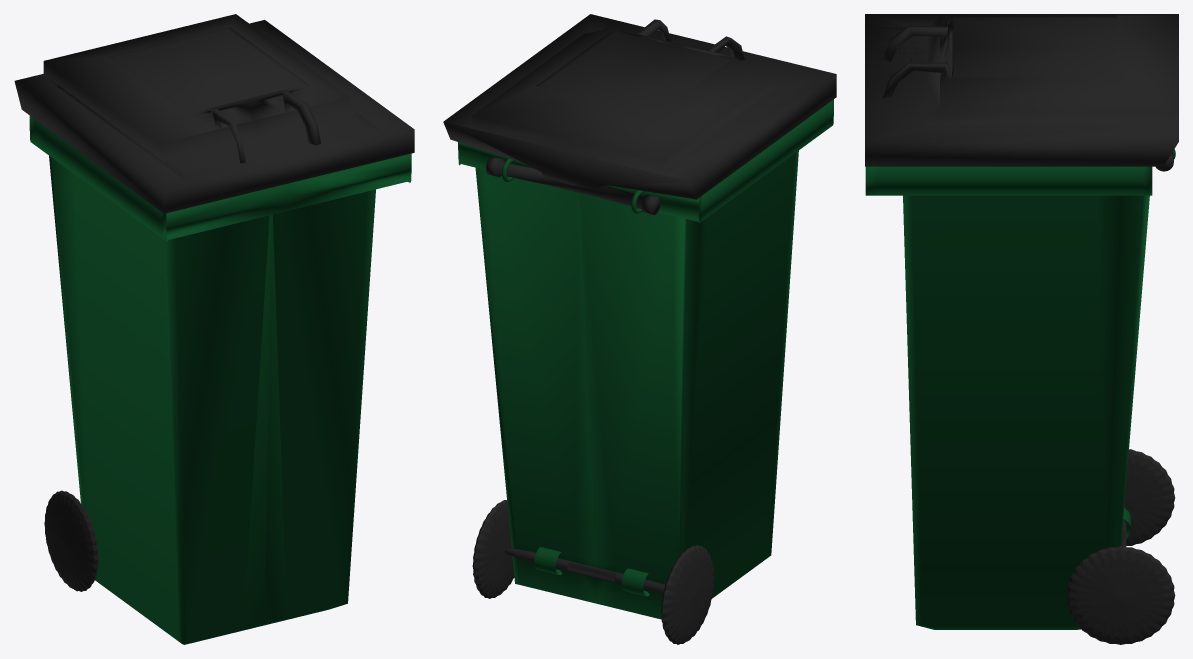
The model's file is trashcan.glb.
3 renders of one model, left to right at view 1: azimuth 30°, elevation 25°; view 2: azimuth 150°, elevation 25°; view 3: azimuth 270°, elevation 25°, orthographic. The views are drawn at different scales.
Visible parts, largest first — view 1: Base, Lid; view 2: Base, Lid; view 3: Base, Lid.
Boxes of the visible parts, bbox=[...] form: Base: bbox=[29, 116, 411, 644]; Lid: bbox=[14, 14, 414, 213]; Base: bbox=[458, 99, 833, 644]; Lid: bbox=[443, 14, 836, 214]; Base: bbox=[865, 149, 1175, 644]; Lid: bbox=[865, 14, 1178, 171].
Bounding box in the file's own units: 4.6 × 9.23 × 4.77.
